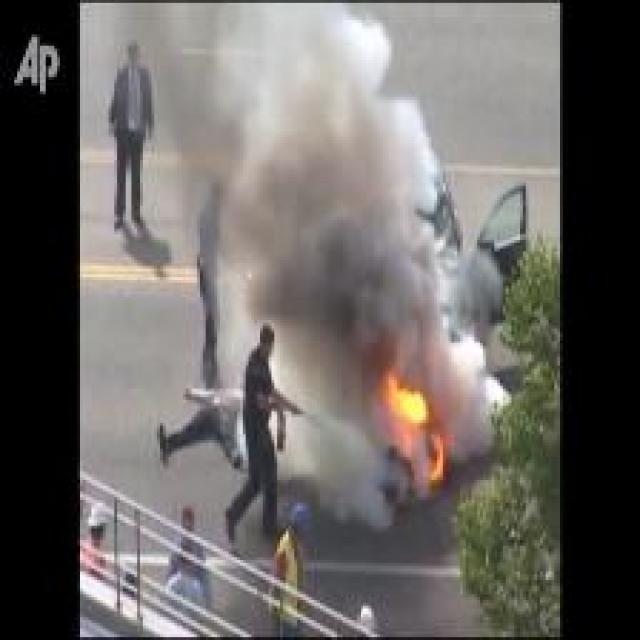Fire: (384, 371, 444, 483)
